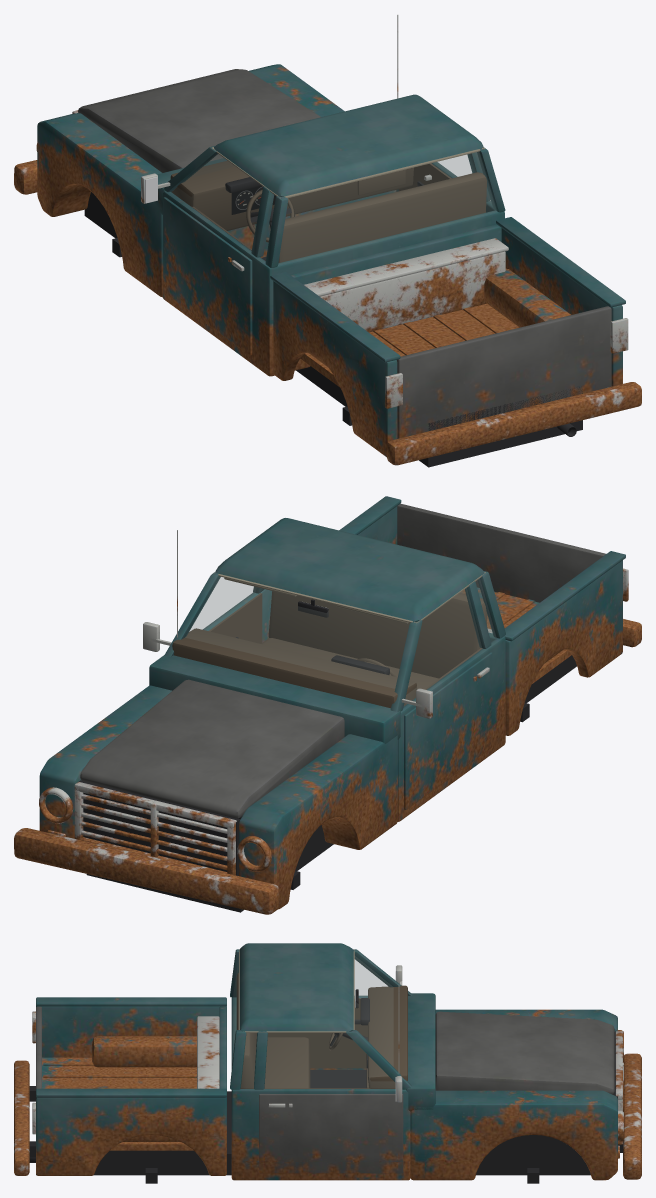
Rendered from truck.glb.
3 renders of one model, top to bottom at view 1: azimuth 30°, elevation 25°; view 2: azimuth 150°, elevation 25°; view 3: azimuth 270°, elevation 25°, orthographic. The views are drawn at different scales.
Visible parts, largest first — view 1: Body, Inside, Trim, Windows; view 2: Body, Inside, Trim, Windows; view 3: Body, Inside, Windows, Trim.
Boxes of the visible parts, x1,y1,x2,y2 form: Body: (37, 64, 625, 456); Inside: (84, 147, 582, 467); Trim: (14, 14, 641, 465); Windows: (172, 152, 496, 264); Body: (39, 496, 625, 909); Inside: (79, 572, 576, 912); Trim: (14, 530, 641, 914); Windows: (185, 577, 496, 705); Body: (36, 943, 617, 1180); Inside: (29, 949, 622, 1183); Windows: (233, 956, 394, 1087); Trim: (14, 965, 641, 1179).
Size of the model in its own units: 2.32 by 1.92 by 5.26.
Materials: 8 (3 with a texture image).
